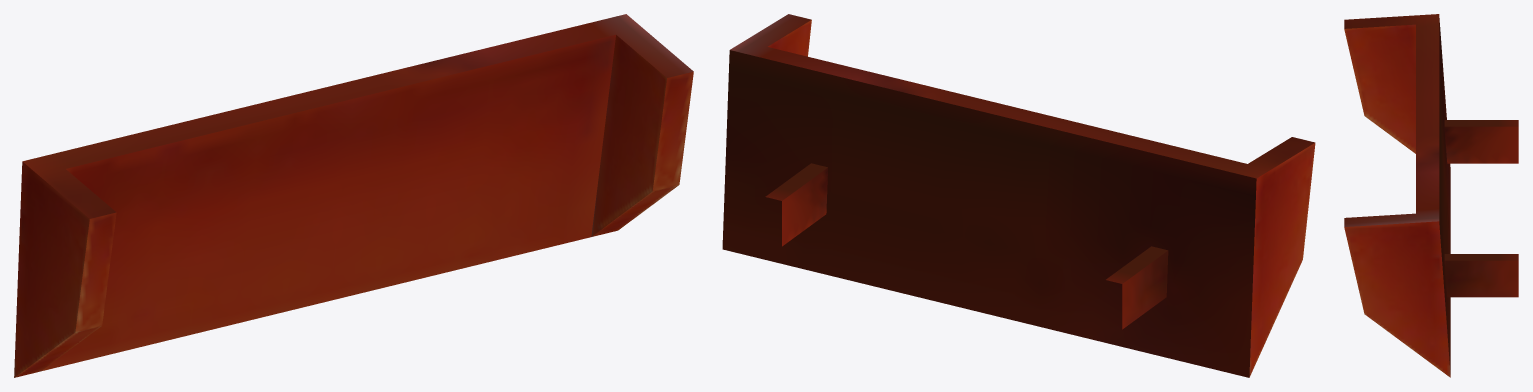
File: Truck 2 Spoiler.glb
3 renders of one model, left to right at view 1: azimuth 30°, elevation 25°; view 2: azimuth 150°, elevation 25°; view 3: azimuth 270°, elevation 25°, orthographic. The views are drawn at different scales.
Visible parts, largest first — view 1: spoiler; view 2: spoiler; view 3: spoiler.
Boxes of the visible parts, bbox=[...] form: spoiler: bbox=[14, 14, 693, 377]; spoiler: bbox=[722, 14, 1315, 377]; spoiler: bbox=[1344, 14, 1518, 377].
Size of the model in its own units: 1.49 by 0.5241 by 0.5295.
Materials: 1 (1 with a texture image).
